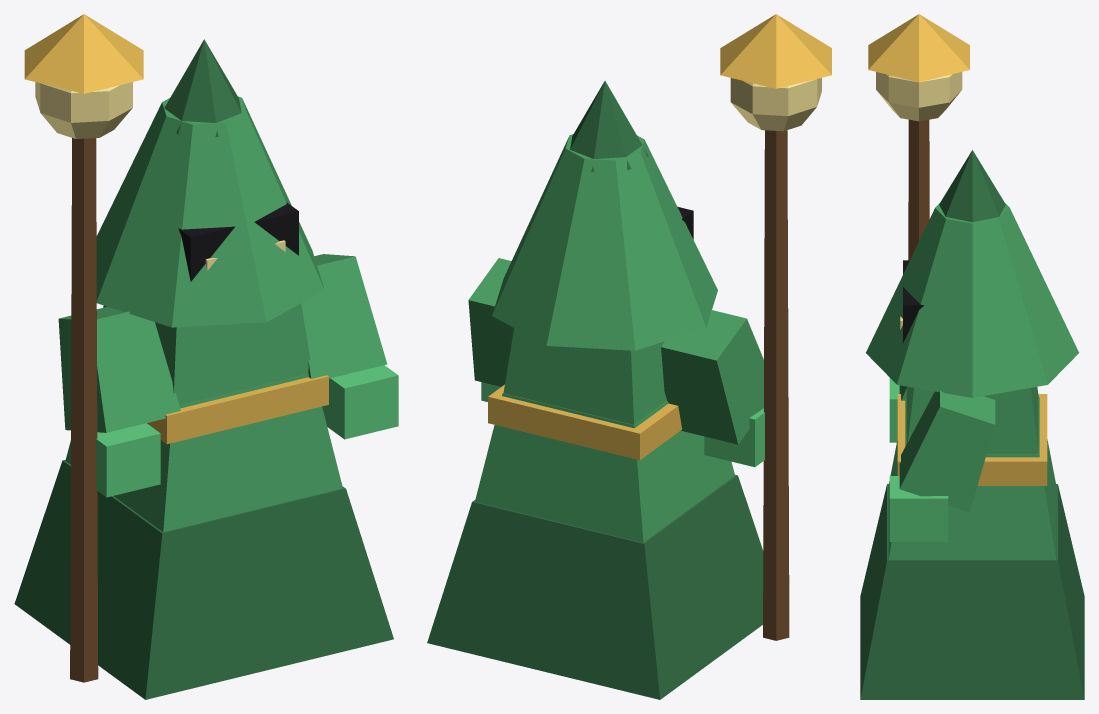
Rendered from enemy_healer.glb.
The picture shows the model from 3 angles, left to right: view 1: azimuth 30°, elevation 25°; view 2: azimuth 150°, elevation 25°; view 3: azimuth 270°, elevation 25°; orthographic projection. The views are drawn at different scales.
Visible parts, largest first — view 1: enemy_healer; view 2: enemy_healer; view 3: enemy_healer.
Boxes of the visible parts, left/top/right/bottom form: enemy_healer: left=14, top=14, right=398, bottom=699; enemy_healer: left=427, top=14, right=831, bottom=699; enemy_healer: left=860, top=14, right=1084, bottom=699.
Size of the model in its own units: 0.66 by 1.18 by 0.42.
